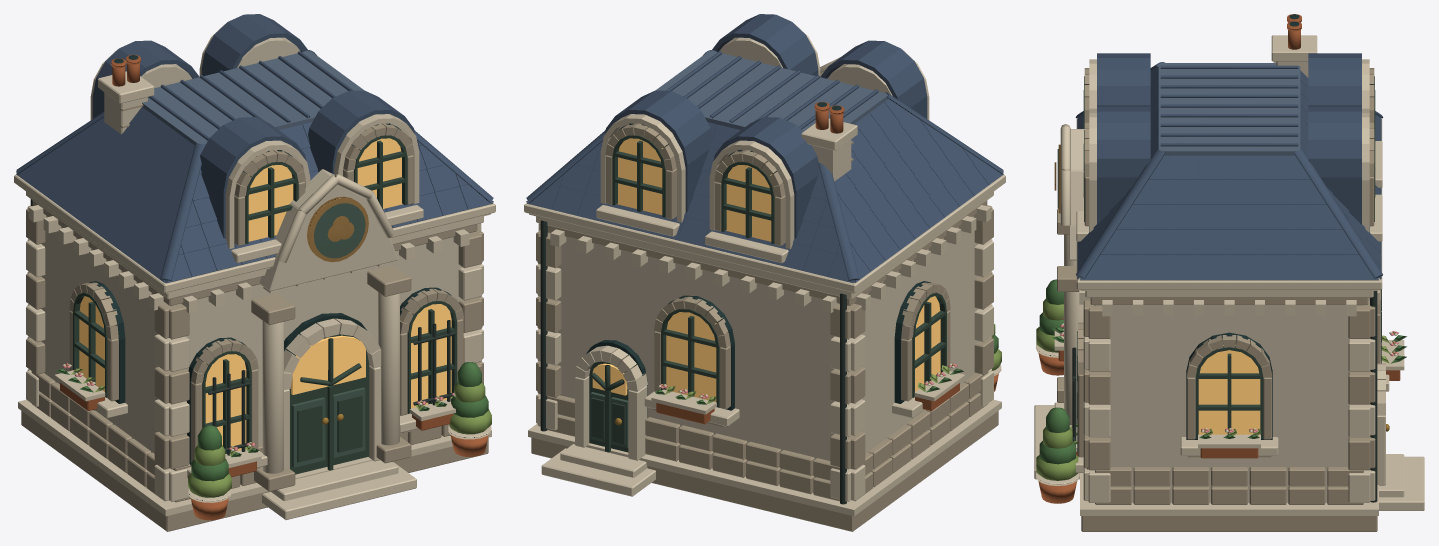
The picture shows the model from 3 angles, left to right: view 1: azimuth 30°, elevation 25°; view 2: azimuth 150°, elevation 25°; view 3: azimuth 270°, elevation 25°; orthographic projection.
Parts seen in each view (by area): view 1: classic_vault_bank_geometry, classic_vault_bank_geometry ceramic; view 2: classic_vault_bank_geometry, classic_vault_bank_geometry ceramic; view 3: classic_vault_bank_geometry, classic_vault_bank_geometry ceramic.
Part boxes in pixels (bbox=[...]): classic_vault_bank_geometry: bbox=[14, 24, 495, 531]; classic_vault_bank_geometry ceramic: bbox=[16, 14, 493, 283]; classic_vault_bank_geometry: bbox=[524, 24, 1005, 531]; classic_vault_bank_geometry ceramic: bbox=[526, 14, 1003, 283]; classic_vault_bank_geometry: bbox=[1034, 14, 1424, 531]; classic_vault_bank_geometry ceramic: bbox=[1075, 53, 1383, 280].
Bounding box in the file's own units: 1.04 × 1.01 × 0.9278.
